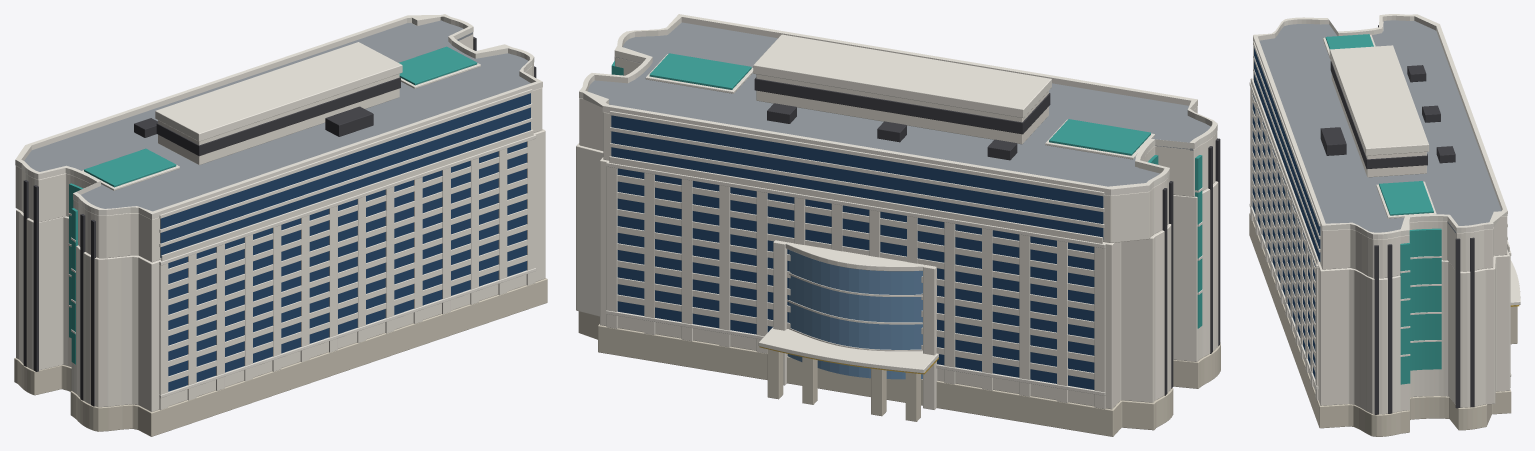
The model's file is hiram-johnson-state-office-building.glb.
3 renders of one model, left to right at view 1: azimuth 30°, elevation 25°; view 2: azimuth 150°, elevation 25°; view 3: azimuth 270°, elevation 25°, orthographic. The views are drawn at different scales.
Parts seen in each view (by area): view 1: body, deck, base, pent_cap, parapet, ribbon, s_rband1, s_rband2, s_rband0, penthouse, pent_louvre, s_gband4 (+44 smaller); view 2: body, deck, base, pent_cap, entry_bay, parapet, ribbon, n_rband1, n_rband2, n_rband0, penthouse, n_gband7 (+48 smaller); view 3: deck, body, pent_cap, base, e_bay, ribbon, parapet, sky1, pent_louvre, penthouse, e_louvre1_70, e_louvre3_30 (+49 smaller).
Boxes of the visible parts, left/top/right/bottom form: body: left=16, top=129, right=545, bottom=411; deck: left=24, top=20, right=530, bottom=211; base: left=14, top=278, right=547, bottom=436; pent_cap: left=155, top=42, right=402, bottom=141; parapet: left=15, top=14, right=542, bottom=219; ribbon: left=15, top=33, right=542, bottom=262; s_rband1: left=160, top=107, right=530, bottom=243; s_rband2: left=160, top=93, right=530, bottom=228; s_rband0: left=160, top=122, right=530, bottom=257; penthouse: left=158, top=74, right=399, bottom=164; pent_louvre: left=156, top=77, right=400, bottom=156; s_gband4: left=168, top=199, right=526, bottom=329; body: left=576, top=143, right=1218, bottom=409; deck: left=587, top=22, right=1210, bottom=186; base: left=578, top=311, right=1220, bottom=436; pent_cap: left=753, top=34, right=1051, bottom=117; entry_bay: left=787, top=250, right=922, bottom=379; parapet: left=579, top=14, right=1217, bottom=195; ribbon: left=579, top=57, right=1217, bottom=242; n_rband1: left=611, top=131, right=1103, bottom=223; n_rband2: left=611, top=115, right=1103, bottom=207; n_rband0: left=611, top=147, right=1103, bottom=239; penthouse: left=756, top=74, right=1048, bottom=144; n_gband7: left=617, top=181, right=1094, bottom=270; deck: left=1259, top=20, right=1501, bottom=233; body: left=1250, top=79, right=1509, bottom=414; pent_cap: left=1329, top=45, right=1429, bottom=155; base: left=1249, top=213, right=1511, bottom=436; e_bay: left=1400, top=228, right=1441, bottom=384; ribbon: left=1253, top=21, right=1507, bottom=278; parapet: left=1253, top=14, right=1507, bottom=239; sky1: left=1379, top=181, right=1433, bottom=215; pent_louvre: left=1330, top=61, right=1427, bottom=168; penthouse: left=1331, top=74, right=1426, bottom=177; e_louvre1_70: left=1455, top=238, right=1460, bottom=408; e_louvre3_30: left=1387, top=244, right=1392, bottom=413.
Size of the model in its own units: 131 by 61.9 by 67.18.
